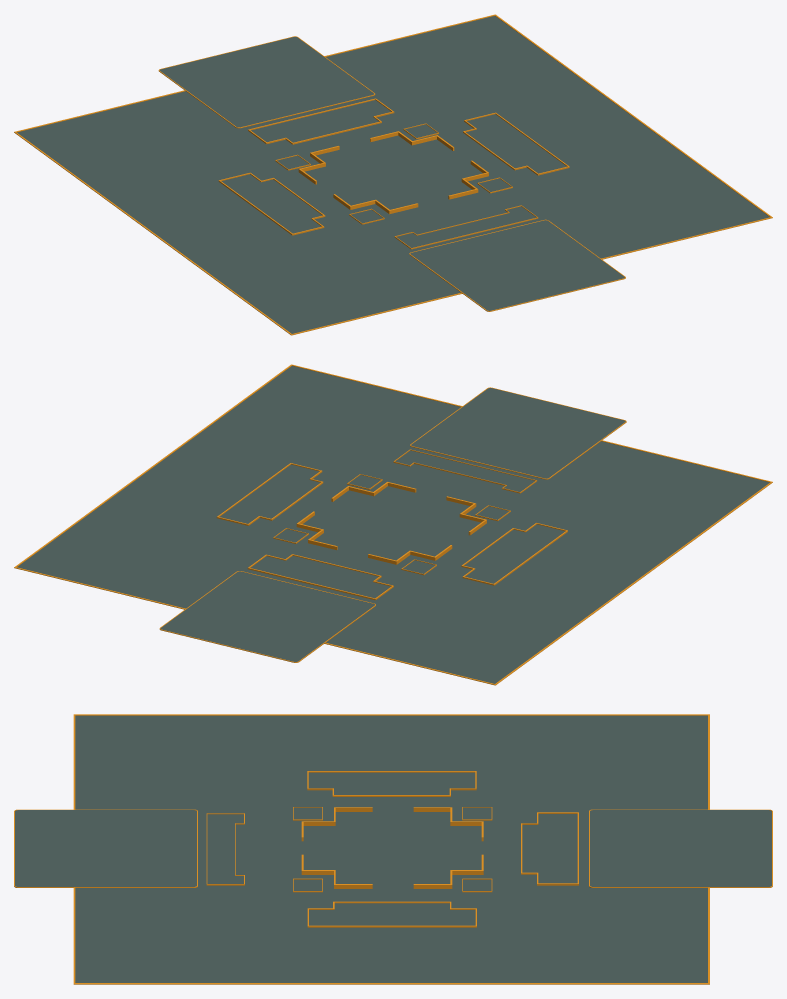
The model's file is D9_Terrain.fbx.
3 renders of one model, top to bottom at view 1: azimuth 30°, elevation 25°; view 2: azimuth 150°, elevation 25°; view 3: azimuth 270°, elevation 25°, orthographic. The views are drawn at different scales.
Parts seen in each view (by area): view 1: Plane.973, Plane.980, Plane.932, Plane.013, Plane.006, Plane.012, Plane.014, Plane.1050; view 2: Plane.973, Plane.980, Plane.932, Plane.013, Plane.006, Plane.012, Plane.014, Plane.1050; view 3: Plane.973, Plane.980, Plane.932, Plane.012, Plane.006, Plane.013, Plane.014, Plane.1050.
Part boxes in pixels (x1,y1,x2,y2): Plane.973: (14, 14, 772, 335); Plane.980: (409, 219, 625, 311); Plane.932: (158, 36, 375, 128); Plane.013: (248, 98, 394, 144); Plane.006: (218, 172, 325, 235); Plane.012: (463, 112, 569, 175); Plane.014: (394, 205, 538, 249); Plane.1050: (298, 131, 488, 214); Plane.973: (14, 364, 772, 685); Plane.980: (410, 387, 626, 479); Plane.932: (159, 571, 375, 662); Plane.013: (247, 554, 393, 600); Plane.006: (461, 523, 567, 585); Plane.012: (216, 463, 323, 525); Plane.014: (393, 449, 537, 493); Plane.1050: (296, 482, 486, 564); Plane.973: (73, 714, 709, 984); Plane.980: (14, 809, 197, 887); Plane.932: (589, 809, 772, 887); Plane.012: (307, 901, 476, 927); Plane.006: (307, 771, 476, 796); Plane.013: (521, 812, 578, 885); Plane.014: (206, 813, 244, 885); Plane.1050: (301, 807, 483, 888).
Size of what is drawn, in the model's own units: 47662 by 353 by 56717.
